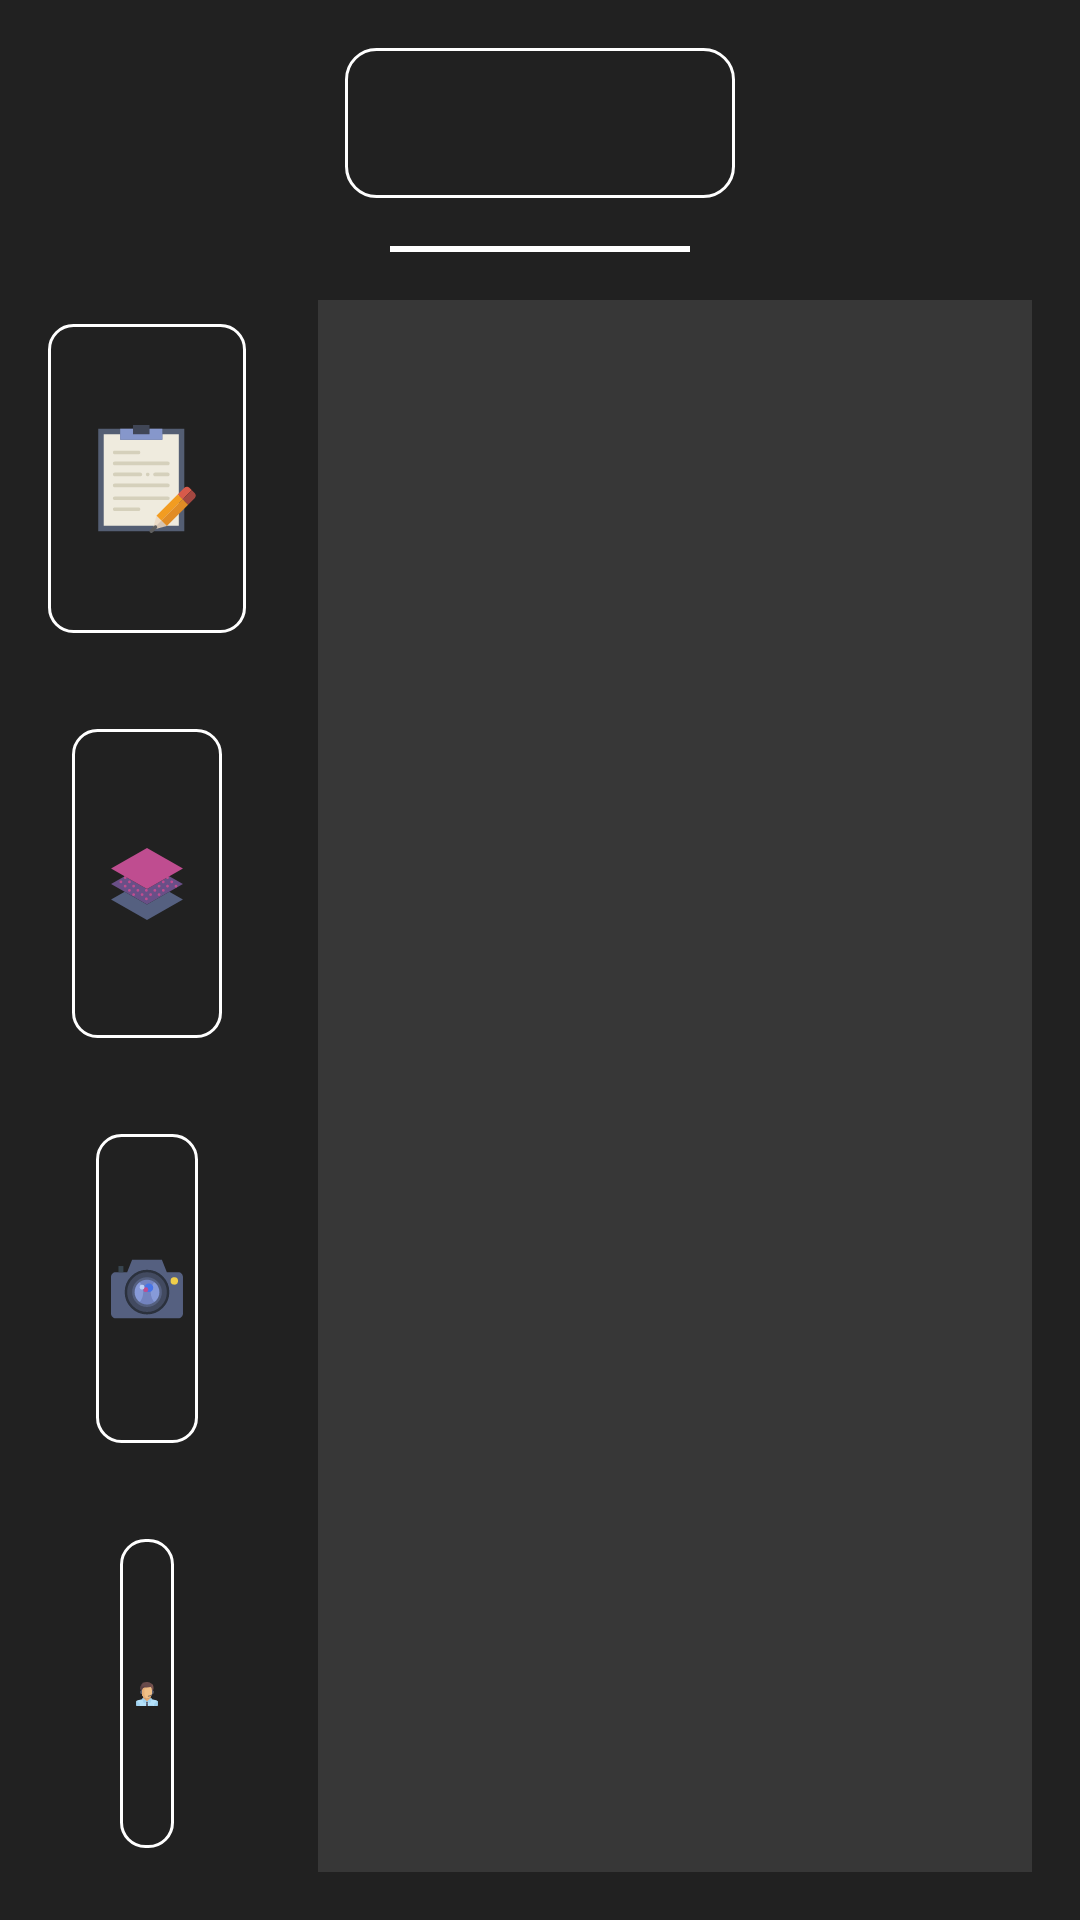

Where to tap for icons on this 1080w x 1920h app screen, as (x,y):
customer service: (147,1693)
layers: (147,883)
notepad: (147,478)
photo camera: (147,1288)
